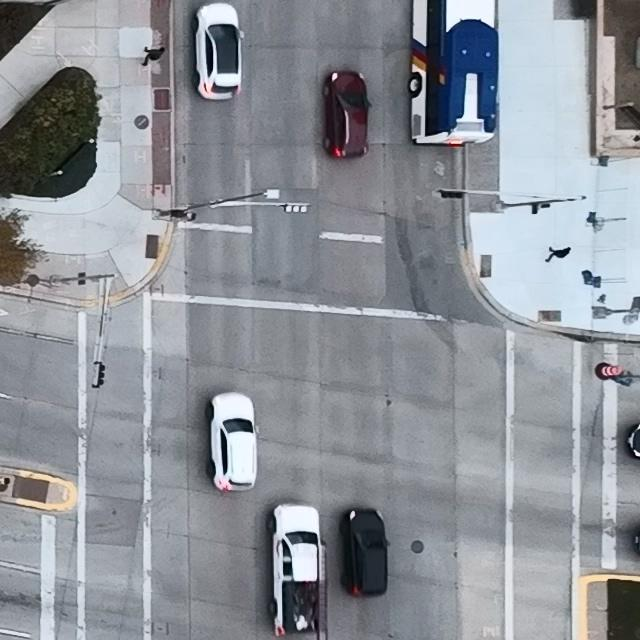car: (407, 0, 499, 146), (267, 502, 327, 640), (205, 392, 260, 493), (193, 2, 244, 100), (321, 71, 373, 159), (340, 507, 390, 598)
